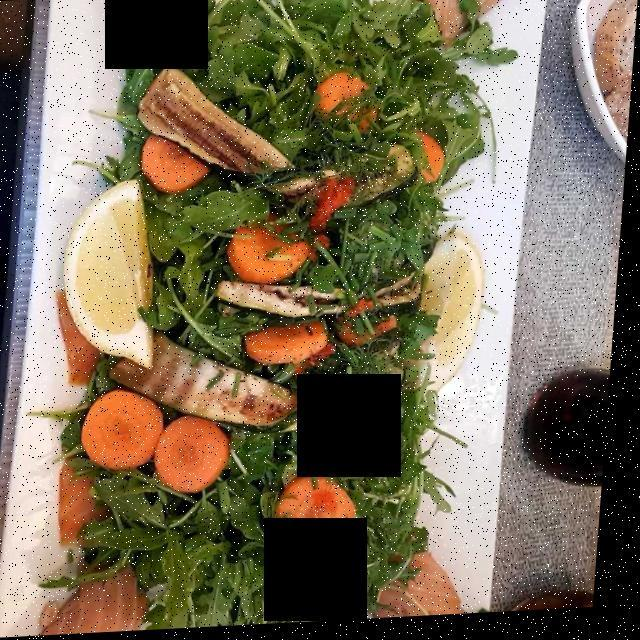lemon: (67, 179, 490, 413)
salad: (69, 1, 497, 624)
